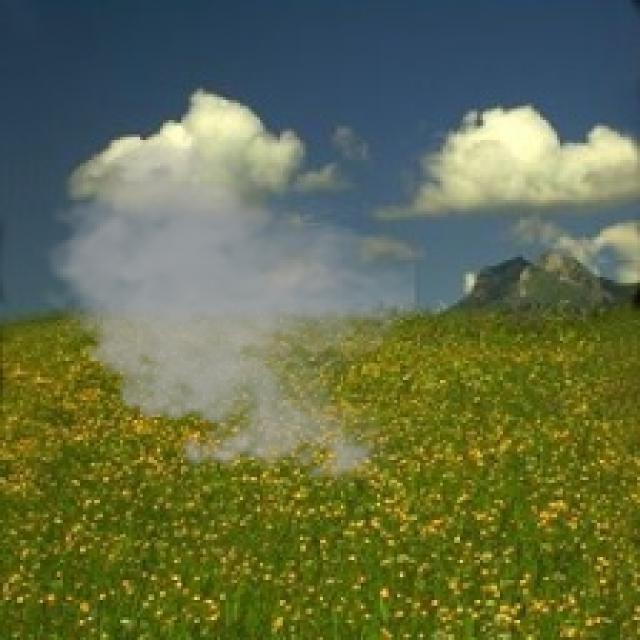Smoke: (34, 132, 420, 492)
